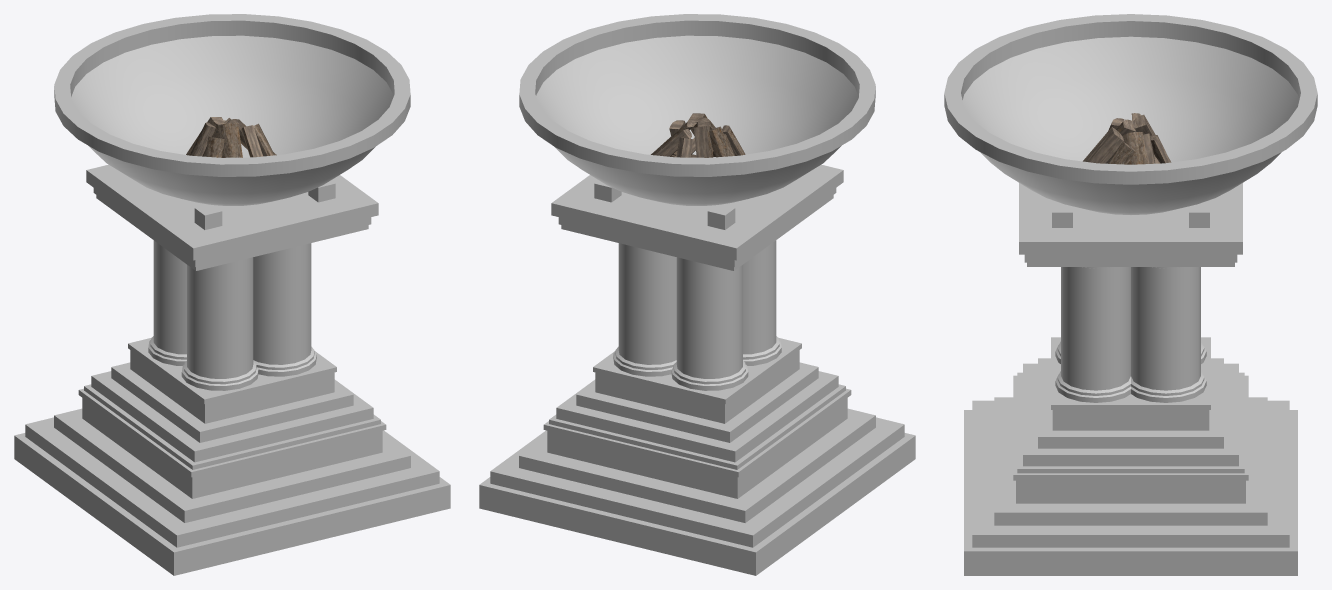
The model's file is FireBowl.gltf.
3 renders of one model, left to right at view 1: azimuth 30°, elevation 25°; view 2: azimuth 150°, elevation 25°; view 3: azimuth 270°, elevation 25°, orthographic. The views are drawn at different scales.
Parts seen in each view (by area): view 1: FireBowl2, PillarBase2, woodFire2; view 2: FireBowl2, PillarBase2, woodFire2; view 3: FireBowl2, PillarBase2, woodFire2.
Part boxes in pixels (x1,y1,x2,y2): FireBowl2: [54, 14, 410, 469]; PillarBase2: [14, 388, 450, 575]; woodFire2: [186, 117, 276, 157]; FireBowl2: [519, 14, 875, 469]; PillarBase2: [479, 388, 915, 575]; woodFire2: [651, 113, 745, 157]; FireBowl2: [944, 14, 1317, 473]; PillarBase2: [964, 375, 1297, 575]; woodFire2: [1083, 113, 1171, 164].
Size of the model in its own units: 2.19 by 2.67 by 2.19.
